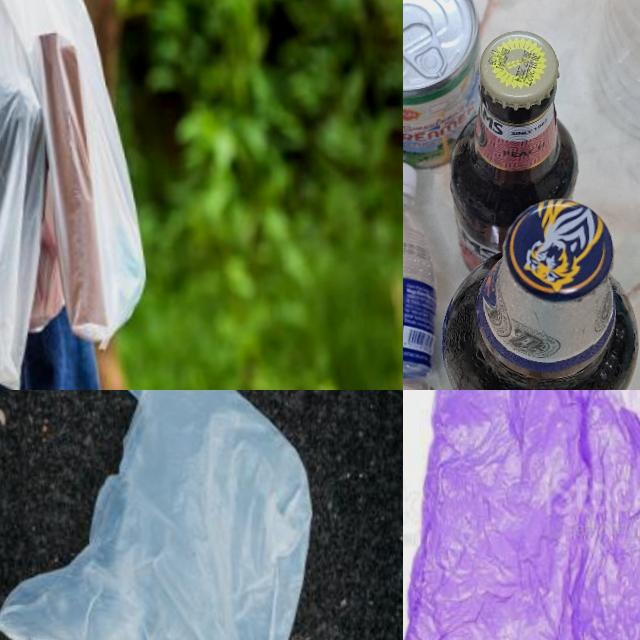aba de lata: (403, 17, 447, 83)
garrafa de vidro: (434, 195, 640, 390), (445, 25, 584, 273)
lata: (403, 0, 486, 173)
sacola plástica: (0, 390, 331, 640), (0, 0, 183, 368), (403, 390, 640, 640), (0, 0, 70, 390)
tampa plástica: (403, 158, 417, 212)
